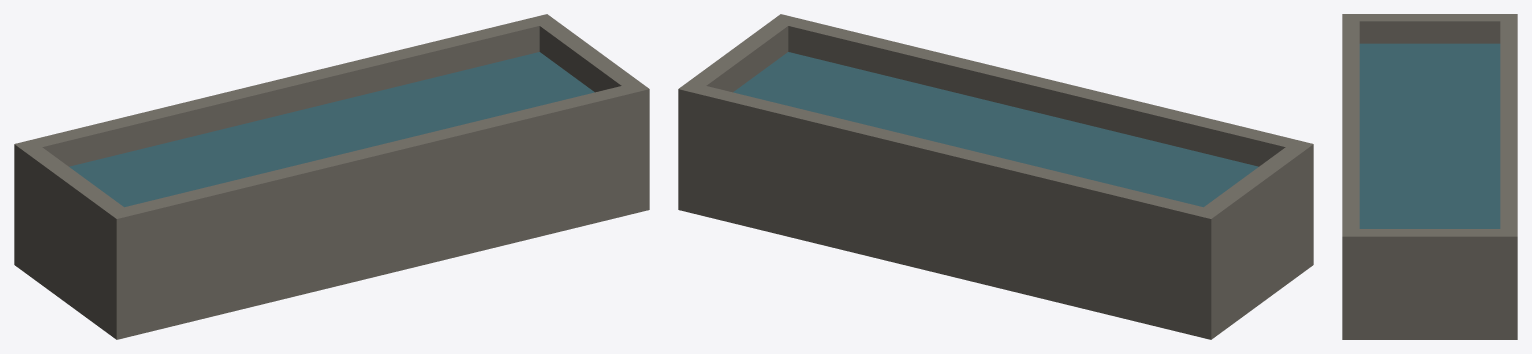
The model's file is water-trough.glb.
3 renders of one model, left to right at view 1: azimuth 30°, elevation 25°; view 2: azimuth 150°, elevation 25°; view 3: azimuth 270°, elevation 25°, orthographic. The views are drawn at different scales.
Parts seen in each view (by area): view 1: water-trough; view 2: water-trough; view 3: water-trough.
Boxes of the visible parts, <box> form: water-trough: <box>14,14,649,339</box>; water-trough: <box>678,14,1313,339</box>; water-trough: <box>1342,14,1517,339</box>.
Bounding box in the file's own units: 3 × 0.65 × 1.
